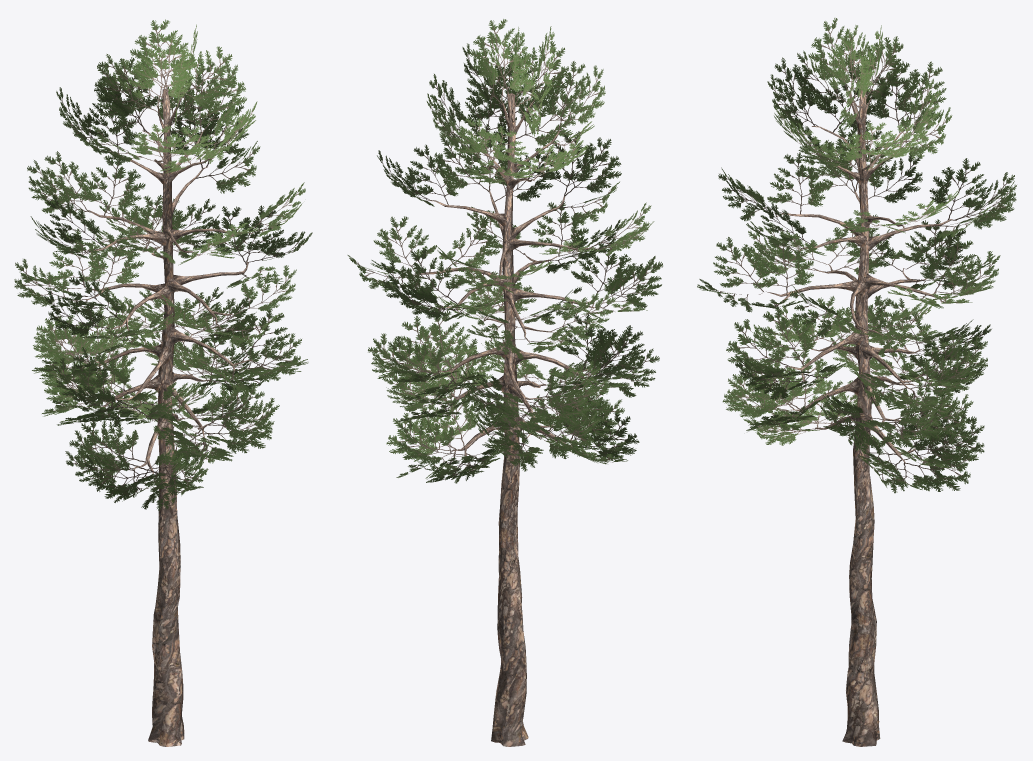
File: pine.glb
3 views of the same model, side by side, from view 1: azimuth 30°, elevation 25°; view 2: azimuth 150°, elevation 25°; view 3: azimuth 270°, elevation 25° (orthographic).
Parts seen in each view (by area): view 1: Tree_1, Tree_0; view 2: Tree_1, Tree_0; view 3: Tree_1, Tree_0.
Part boxes in pixels (x1,y1,x2,y2): Tree_1: (14,19,312,510); Tree_0: (77,88,252,746); Tree_1: (347,19,662,483); Tree_0: (414,89,603,746); Tree_1: (697,18,1016,493); Tree_0: (759,88,955,746).
Bounding box in the file's own units: 8.21 × 20 × 8.15.
2 materials, 2 textured.
